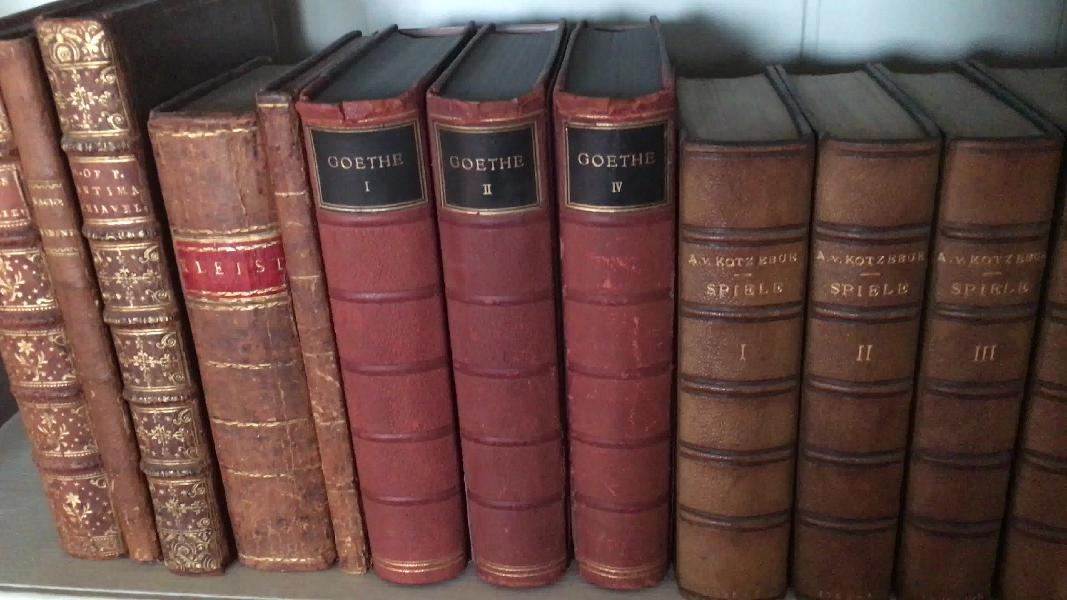Aa6-10: (246, 76, 371, 573)
Aa6-11_13: (290, 98, 691, 597)
Aa6-14_17: (686, 138, 1057, 600)
Aa6-7: (2, 35, 154, 565)
Aa6-8: (27, 21, 223, 572)
Aa6-9: (126, 87, 337, 577)
